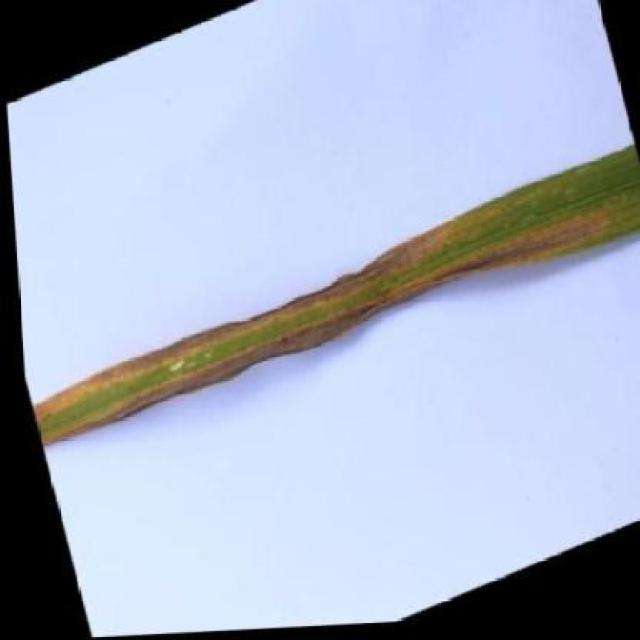Rice False Smut: (29, 153, 640, 443)
